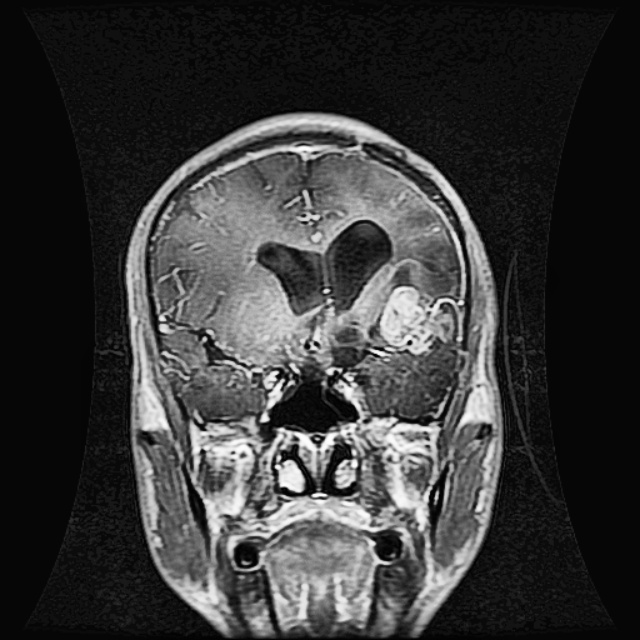Meningioma: (337, 264, 452, 367)
